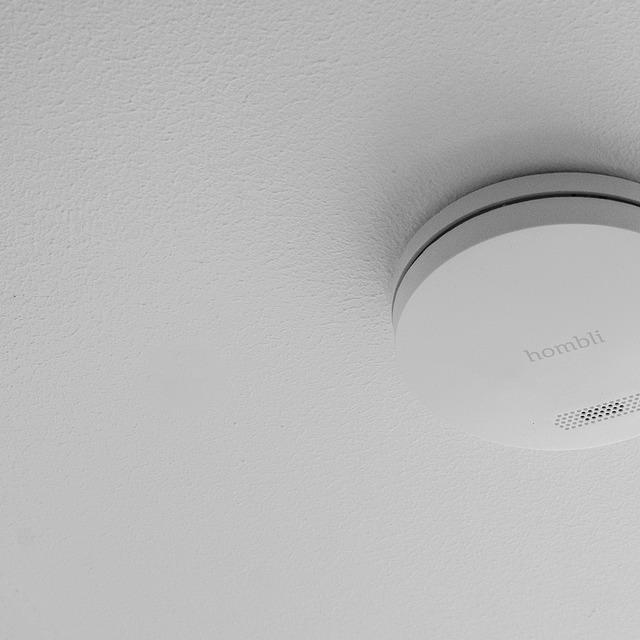Smoke-Detector: (382, 170, 640, 466)
